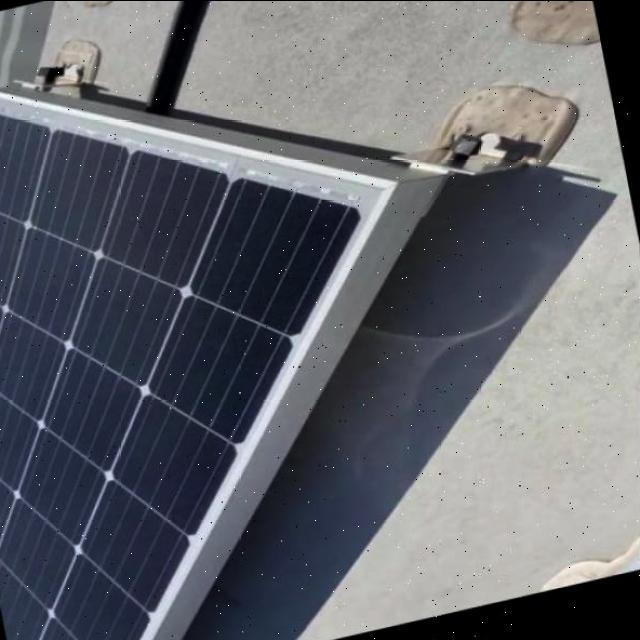Normal Solar Panel: (0, 3, 479, 640), (54, 0, 582, 54)
